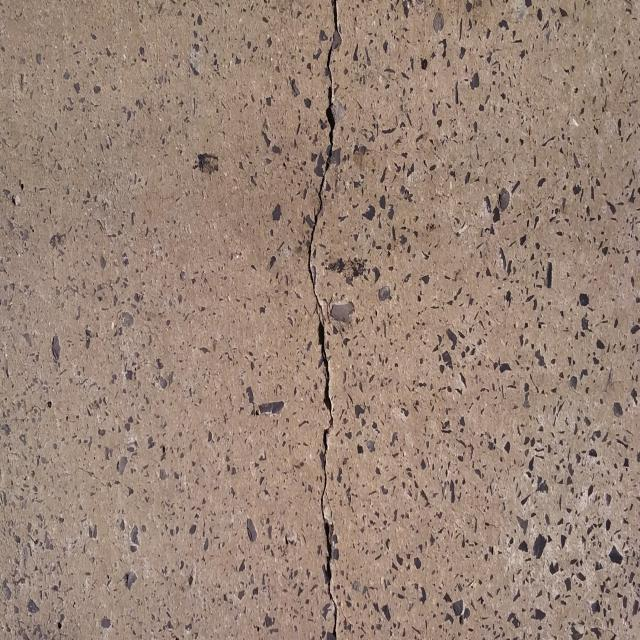Crack: (306, 0, 339, 640)
